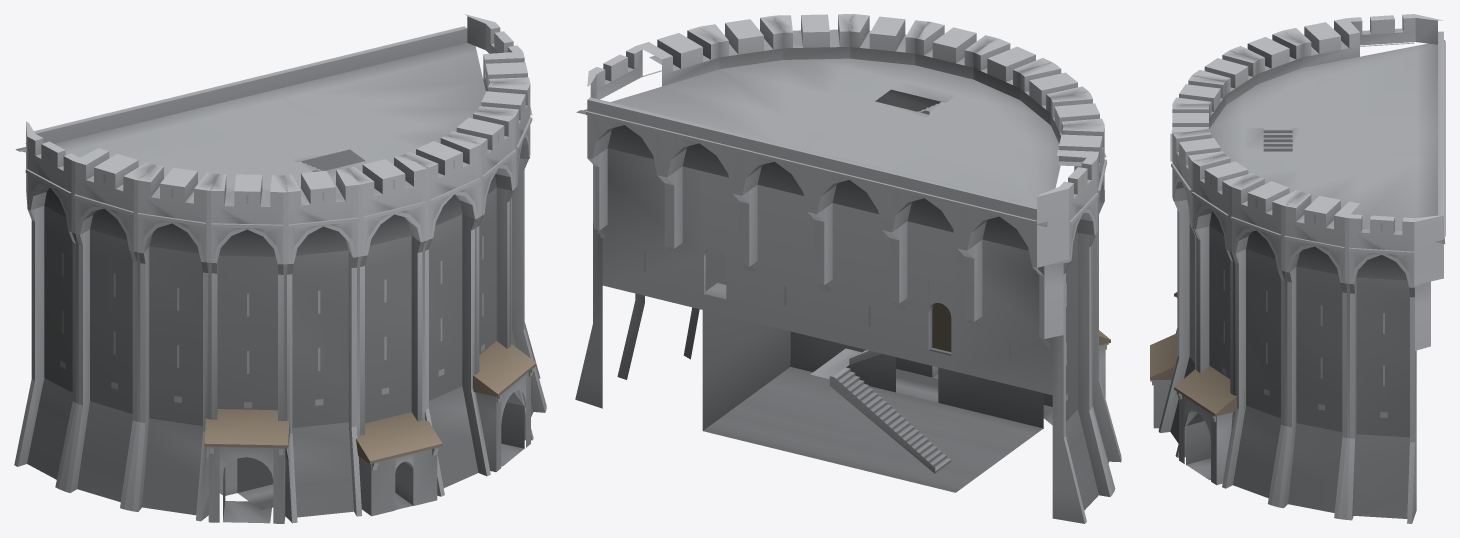
Rendered from sg_bastion.glb.
3 views of the same model, side by side, from view 1: azimuth 30°, elevation 25°; view 2: azimuth 150°, elevation 25°; view 3: azimuth 270°, elevation 25° (orthographic). The views are drawn at different scales.
Visible parts, largest first — view 1: sg_bastion_SG_Stone, sg_bastion_SG_Joinery; view 2: sg_bastion_SG_Stone, sg_bastion_SG_Joinery; view 3: sg_bastion_SG_Stone, sg_bastion_SG_Joinery.
Part boxes in pixels (bbox=[...]): sg_bastion_SG_Stone: bbox=[14, 14, 546, 523]; sg_bastion_SG_Joinery: bbox=[204, 341, 536, 463]; sg_bastion_SG_Stone: bbox=[575, 14, 1121, 523]; sg_bastion_SG_Joinery: bbox=[932, 303, 1110, 351]; sg_bastion_SG_Stone: bbox=[1150, 14, 1445, 523]; sg_bastion_SG_Joinery: bbox=[1150, 292, 1244, 416].
Bounding box in the file's own units: 36.26 × 22.62 × 20.53.
